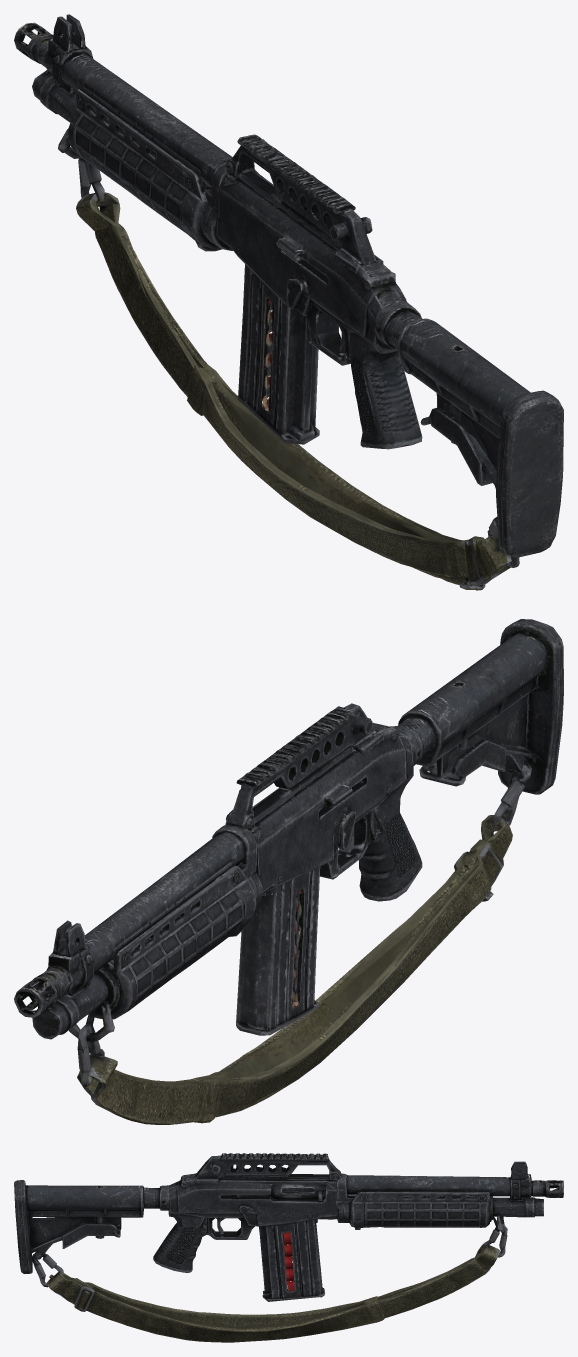
The model's file is sweeper.glb.
3 renders of one model, top to bottom at view 1: azimuth 30°, elevation 25°; view 2: azimuth 150°, elevation 25°; view 3: azimuth 270°, elevation 25°, orthographic. The views are drawn at different scales.
Parts seen in each view (by area): view 1: body, mag; view 2: body, mag; view 3: body, mag.
Boxes of the visible parts, x1=… form: body: x1=14, y1=14, x2=563, y2=590; mag: x1=238, y1=268, x2=319, y2=444; body: x1=14, y1=619, x2=563, y2=1124; mag: x1=236, y1=861, x2=330, y2=1034; body: x1=14, y1=1153, x2=563, y2=1342; mag: x1=259, y1=1223, x2=320, y2=1301.
Bounding box in the file's own units: 0.0737 × 0.3486 × 0.9496.
1 material, 1 textured.
